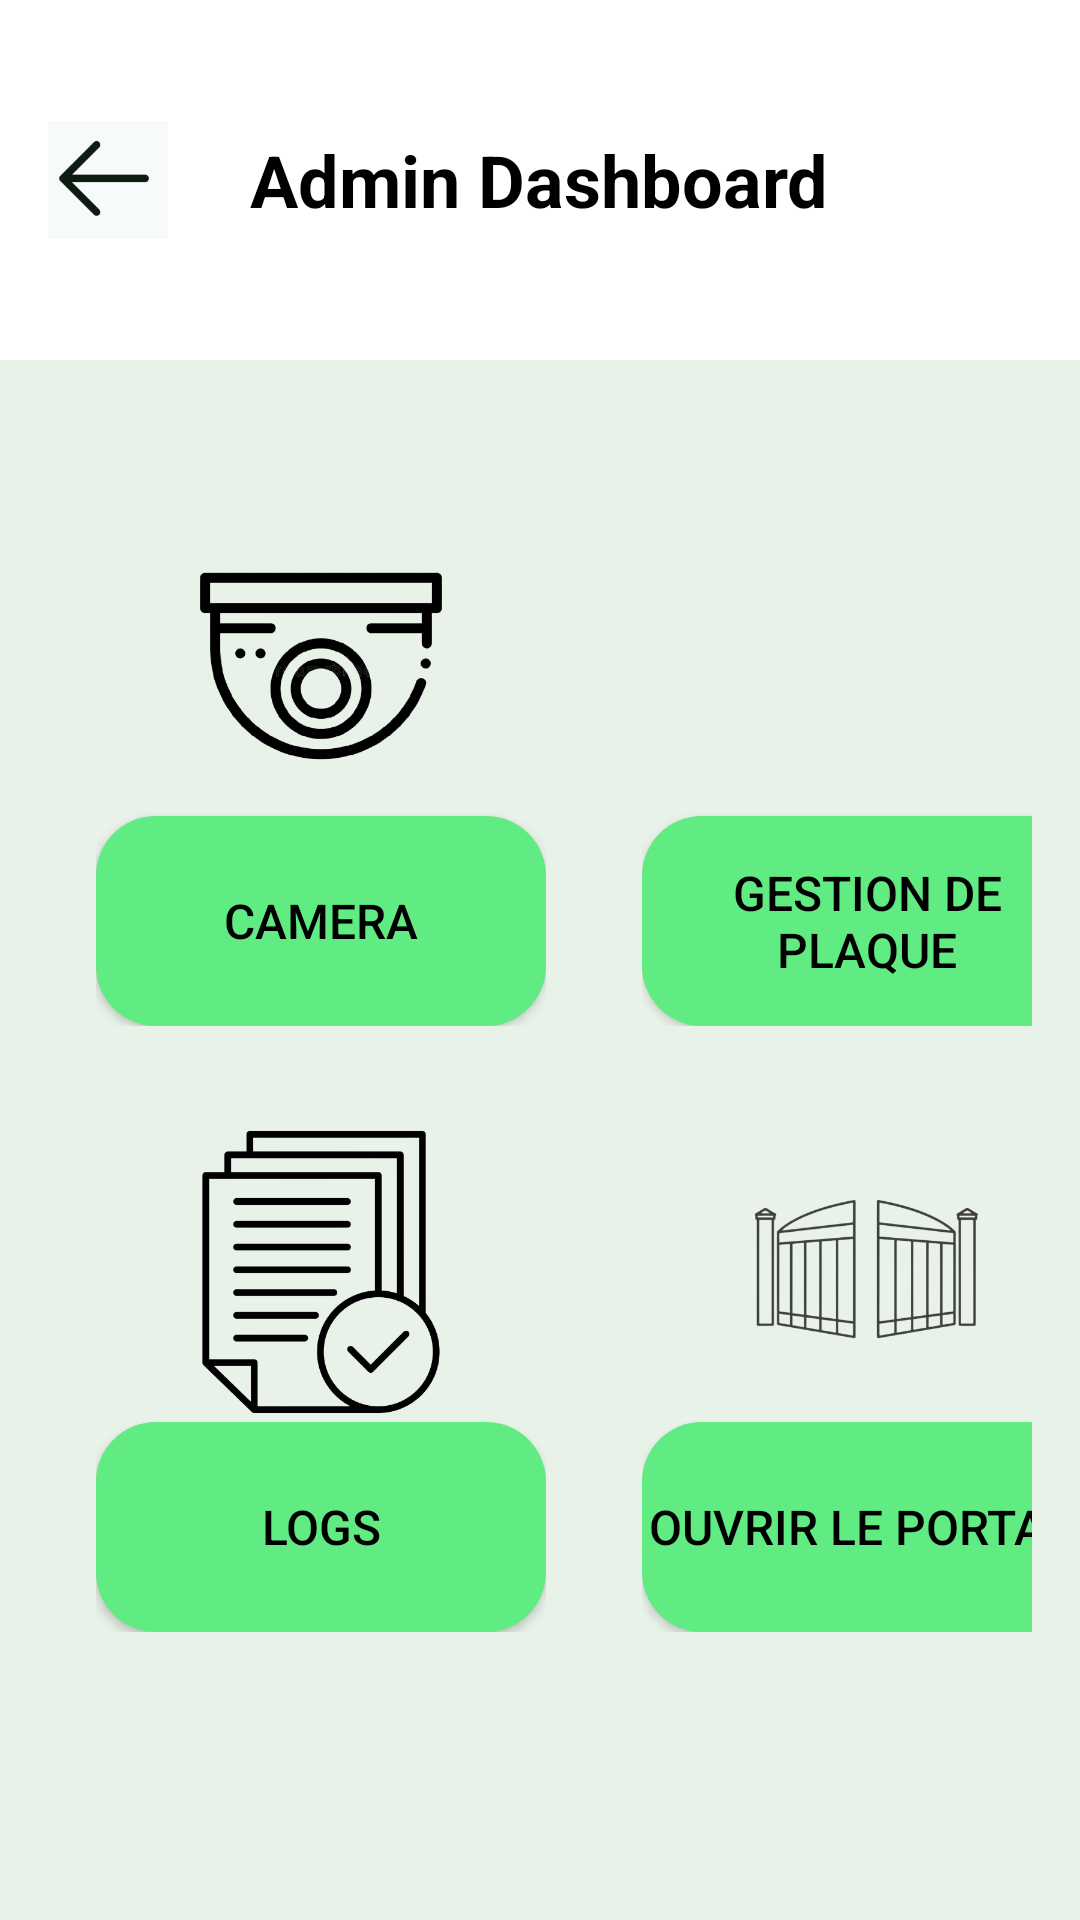

Icons on this 1080x1920 Android screen, each with its box as (x1, y1, x2, y2):
fleche: (59, 141, 149, 216)
